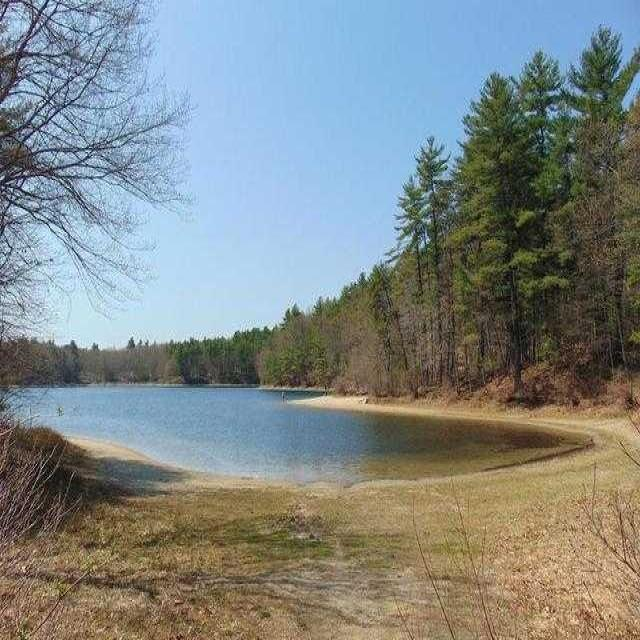Ponds: (5, 381, 612, 479)
